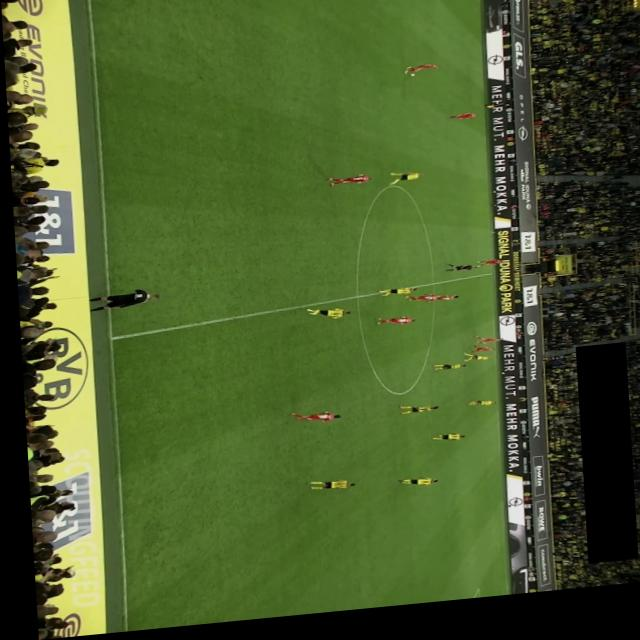player: (282, 415, 335, 432), (301, 311, 347, 328), (322, 180, 371, 194), (300, 484, 348, 498), (393, 409, 433, 423), (390, 483, 432, 496), (385, 178, 421, 193), (370, 323, 411, 335), (373, 294, 413, 305), (419, 299, 454, 311), (402, 71, 438, 82), (401, 301, 436, 312), (457, 360, 486, 372), (427, 370, 461, 380), (425, 441, 459, 451), (469, 343, 495, 355), (461, 408, 490, 417), (445, 122, 476, 130), (464, 353, 488, 363), (471, 268, 498, 276)
referee: (440, 270, 473, 281), (483, 112, 509, 120)
